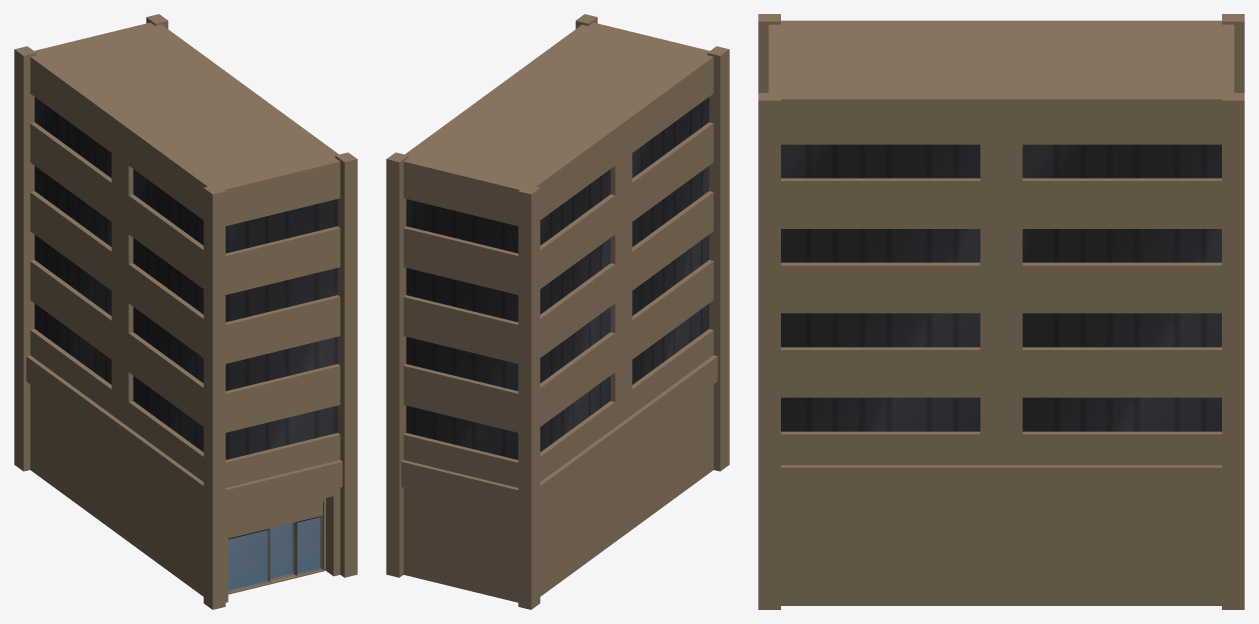
The model's file is Bld_Building_DC.fbx.
3 renders of one model, left to right at view 1: azimuth 30°, elevation 25°; view 2: azimuth 150°, elevation 25°; view 3: azimuth 270°, elevation 25°, orthographic. The views are drawn at different scales.
Visible parts, largest first — view 1: Bld_Building_DC; view 2: Bld_Building_DC; view 3: Bld_Building_DC.
Boxes of the visible parts, left/top/right/bottom form: Bld_Building_DC: left=14, top=14, right=357, bottom=609; Bld_Building_DC: left=386, top=14, right=729, bottom=609; Bld_Building_DC: left=758, top=14, right=1244, bottom=609.
Bounding box in the file's own units: 660 × 1810 × 1566.
